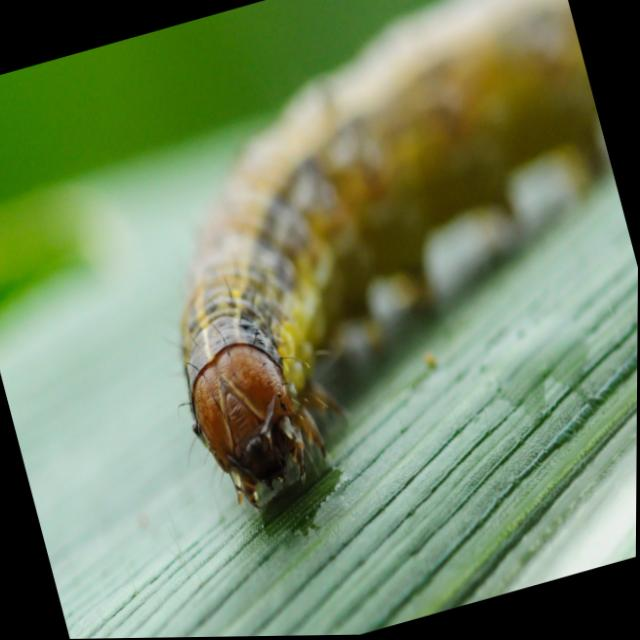Fall-Armyworm: (82, 1, 640, 553)
